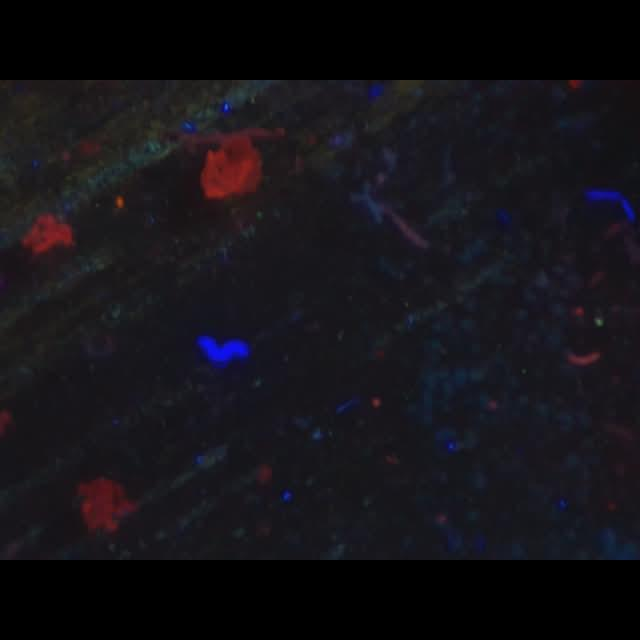Fragment: (20, 212, 76, 255)
